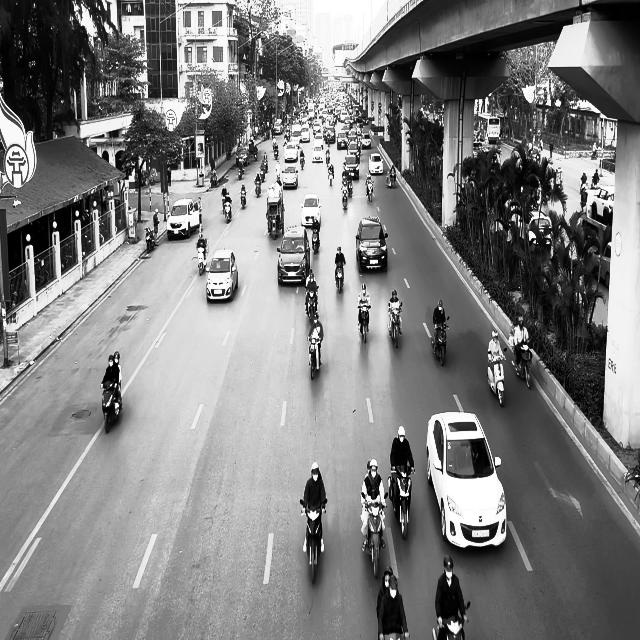bus: (477, 112, 504, 144)
car: (426, 411, 507, 549), (276, 224, 310, 286), (355, 216, 388, 274), (206, 249, 238, 302), (166, 198, 200, 240), (300, 193, 322, 228), (282, 164, 298, 188), (368, 153, 384, 174)
motorbike: (300, 498, 326, 584), (361, 496, 386, 578), (388, 466, 415, 539), (432, 602, 470, 640), (508, 333, 532, 389), (100, 381, 122, 433), (487, 348, 506, 406), (432, 316, 449, 366), (387, 302, 403, 348), (308, 335, 322, 380), (358, 303, 370, 344), (305, 286, 318, 322), (196, 241, 208, 276), (335, 262, 344, 294), (222, 195, 232, 223), (144, 227, 155, 252), (311, 227, 320, 253), (341, 185, 348, 208), (254, 178, 262, 197), (366, 181, 373, 202), (240, 188, 247, 208), (327, 166, 334, 186)
